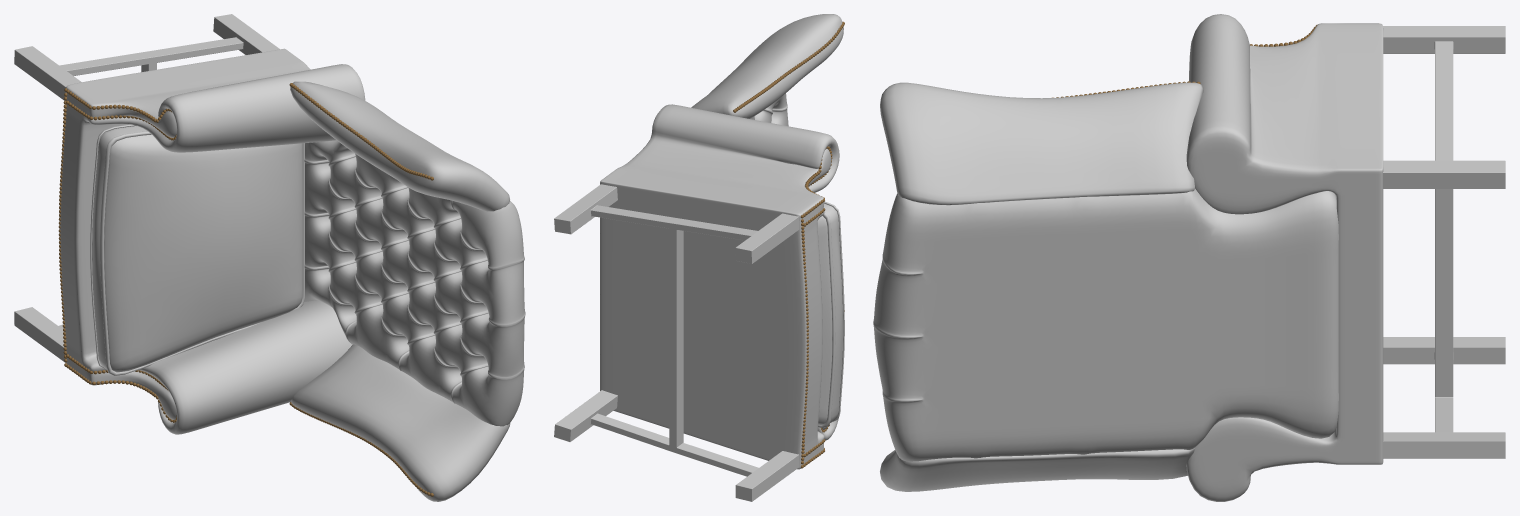
File: chair.obj
3 renders of one model, left to right at view 1: azimuth 30°, elevation 25°; view 2: azimuth 150°, elevation 25°; view 3: azimuth 270°, elevation 25°, orthographic. The views are drawn at different scales.
Visible parts, largest first — view 1: Chair_back, Chair_foot, Chair_metal; view 2: Chair_back, Chair_foot, Chair_metal; view 3: Chair_back, Chair_foot.
Part boxes in pixels (left/top/right/bottom): Chair_back: left=59, top=48, right=525, bottom=501; Chair_foot: left=14, top=14, right=279, bottom=362; Chair_metal: left=58, top=83, right=433, bottom=496; Chair_back: left=600, top=14, right=844, bottom=469; Chair_foot: left=554, top=184, right=799, bottom=501; Chair_metal: left=733, top=21, right=844, bottom=468; Chair_back: left=873, top=14, right=1383, bottom=501; Chair_foot: left=1383, top=26, right=1505, bottom=458.
Size of the model in its own units: 69.88 by 85.12 by 121.
